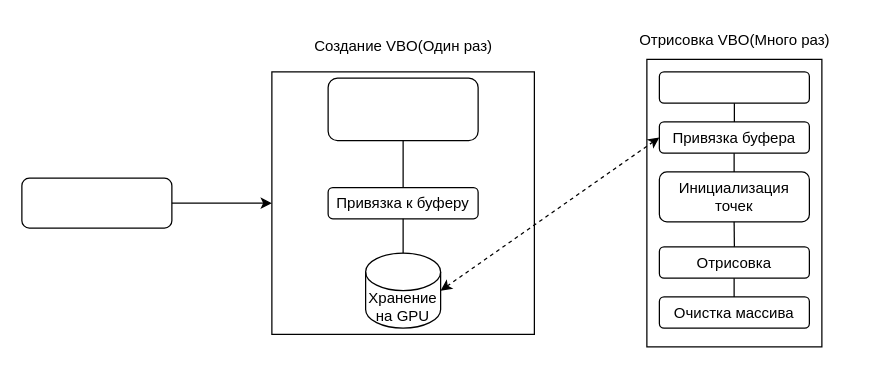
The diagram is 869 pixels wide and 369 high, and some of its shapes have lost their labels. The centre of each missing label's shape, as x and y in pixels:
Данные о вершинах: the point at 96,202
Получение идентификатора буфера: the point at 402,109
Получение массива: the point at 733,87
